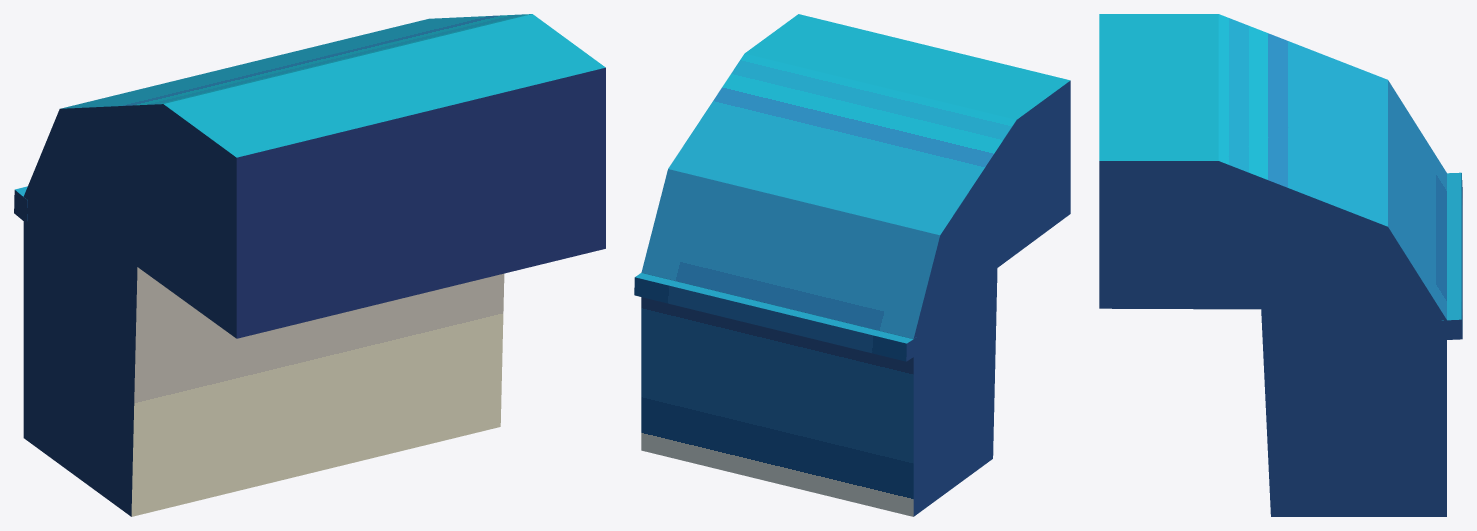
Rendered from df5_carport_1.obj.
3 views of the same model, side by side, from view 1: azimuth 30°, elevation 25°; view 2: azimuth 150°, elevation 25°; view 3: azimuth 270°, elevation 25° (orthographic). The views are drawn at different scales.
Visible parts, largest first — view 1: cube; view 2: cube; view 3: cube.
Boxes of the visible parts, x1,y1,x2,y2 form: cube: [14, 14, 605, 516]; cube: [634, 14, 1070, 516]; cube: [1099, 14, 1462, 516].
Bounding box in the file's own units: 1 × 1.13 × 1.05.
